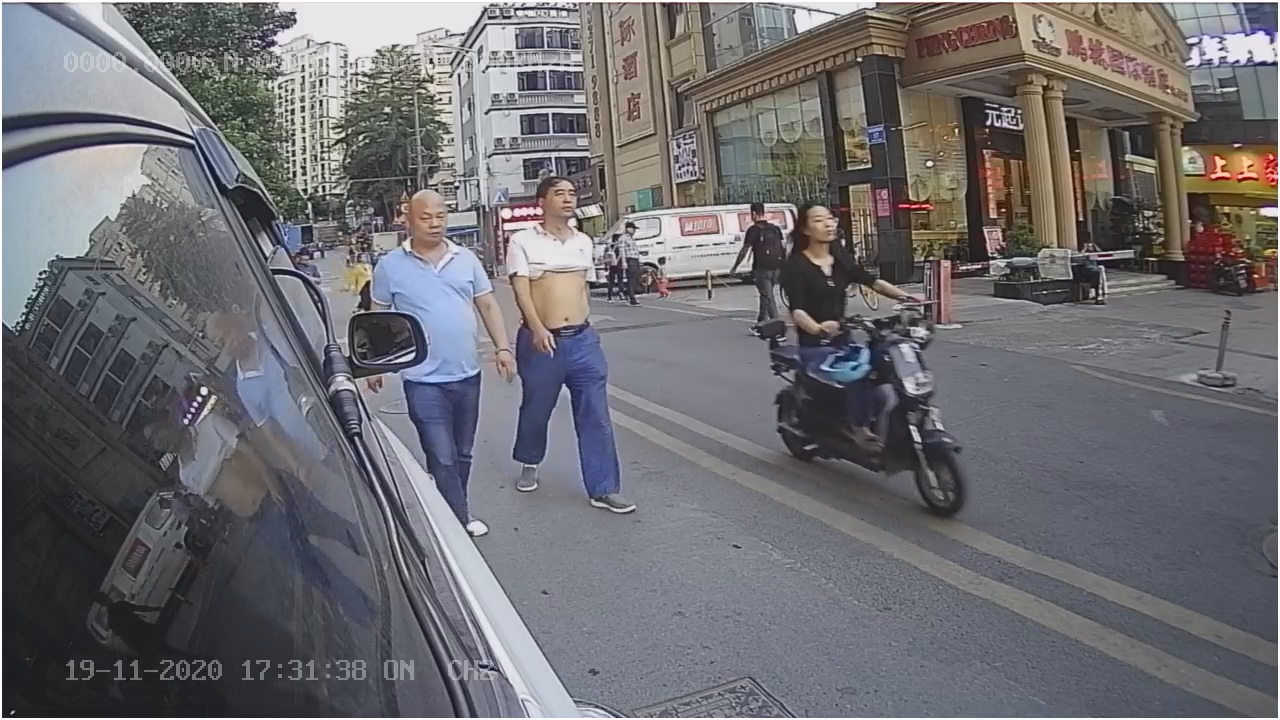person: (506, 175, 623, 507), (774, 200, 888, 311)
